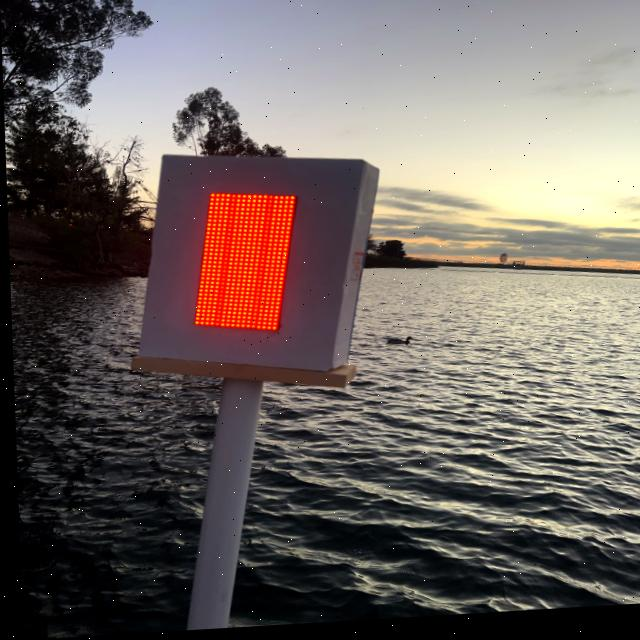led: (167, 160, 329, 363)
